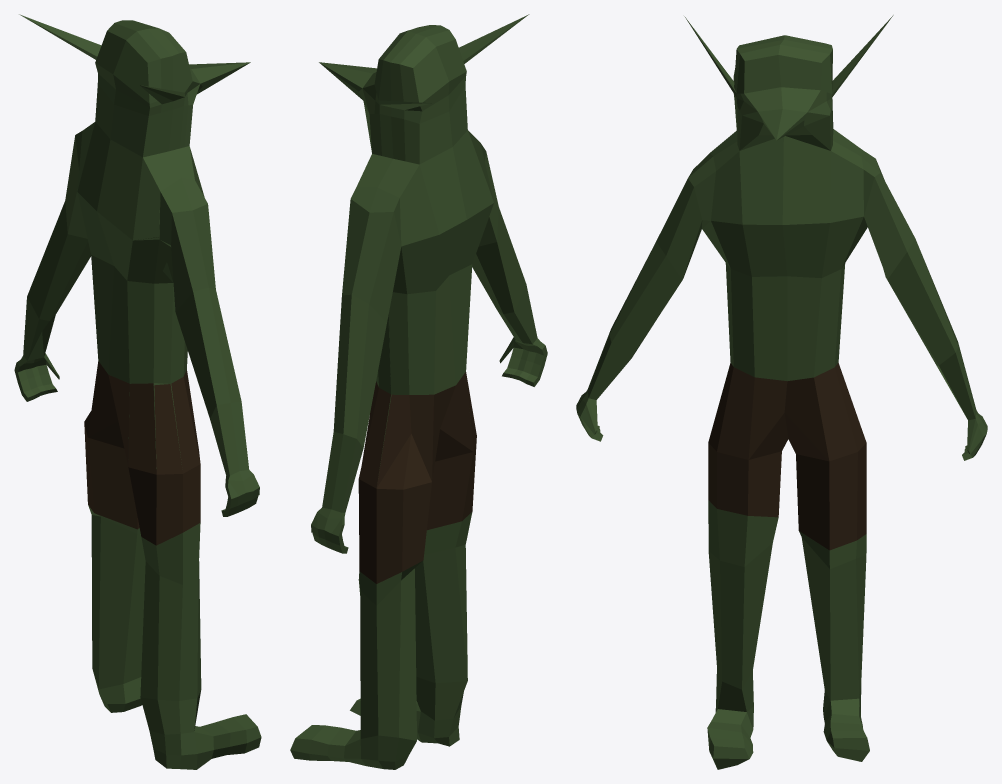
Rendered from Goblin.fbx.
3 renders of one model, left to right at view 1: azimuth 30°, elevation 25°; view 2: azimuth 150°, elevation 25°; view 3: azimuth 270°, elevation 25°, orthographic. The views are drawn at different scales.
Parts seen in each view (by area): view 1: Body; view 2: Body; view 3: Body.
Boxes of the visible parts, x1=… form: Body: x1=14, y1=14, x2=261, y2=769; Body: x1=290, y1=14, x2=547, y2=769; Body: x1=576, y1=15, x2=987, y2=769.
Bounding box in the file's own units: 223 × 889 × 474.
